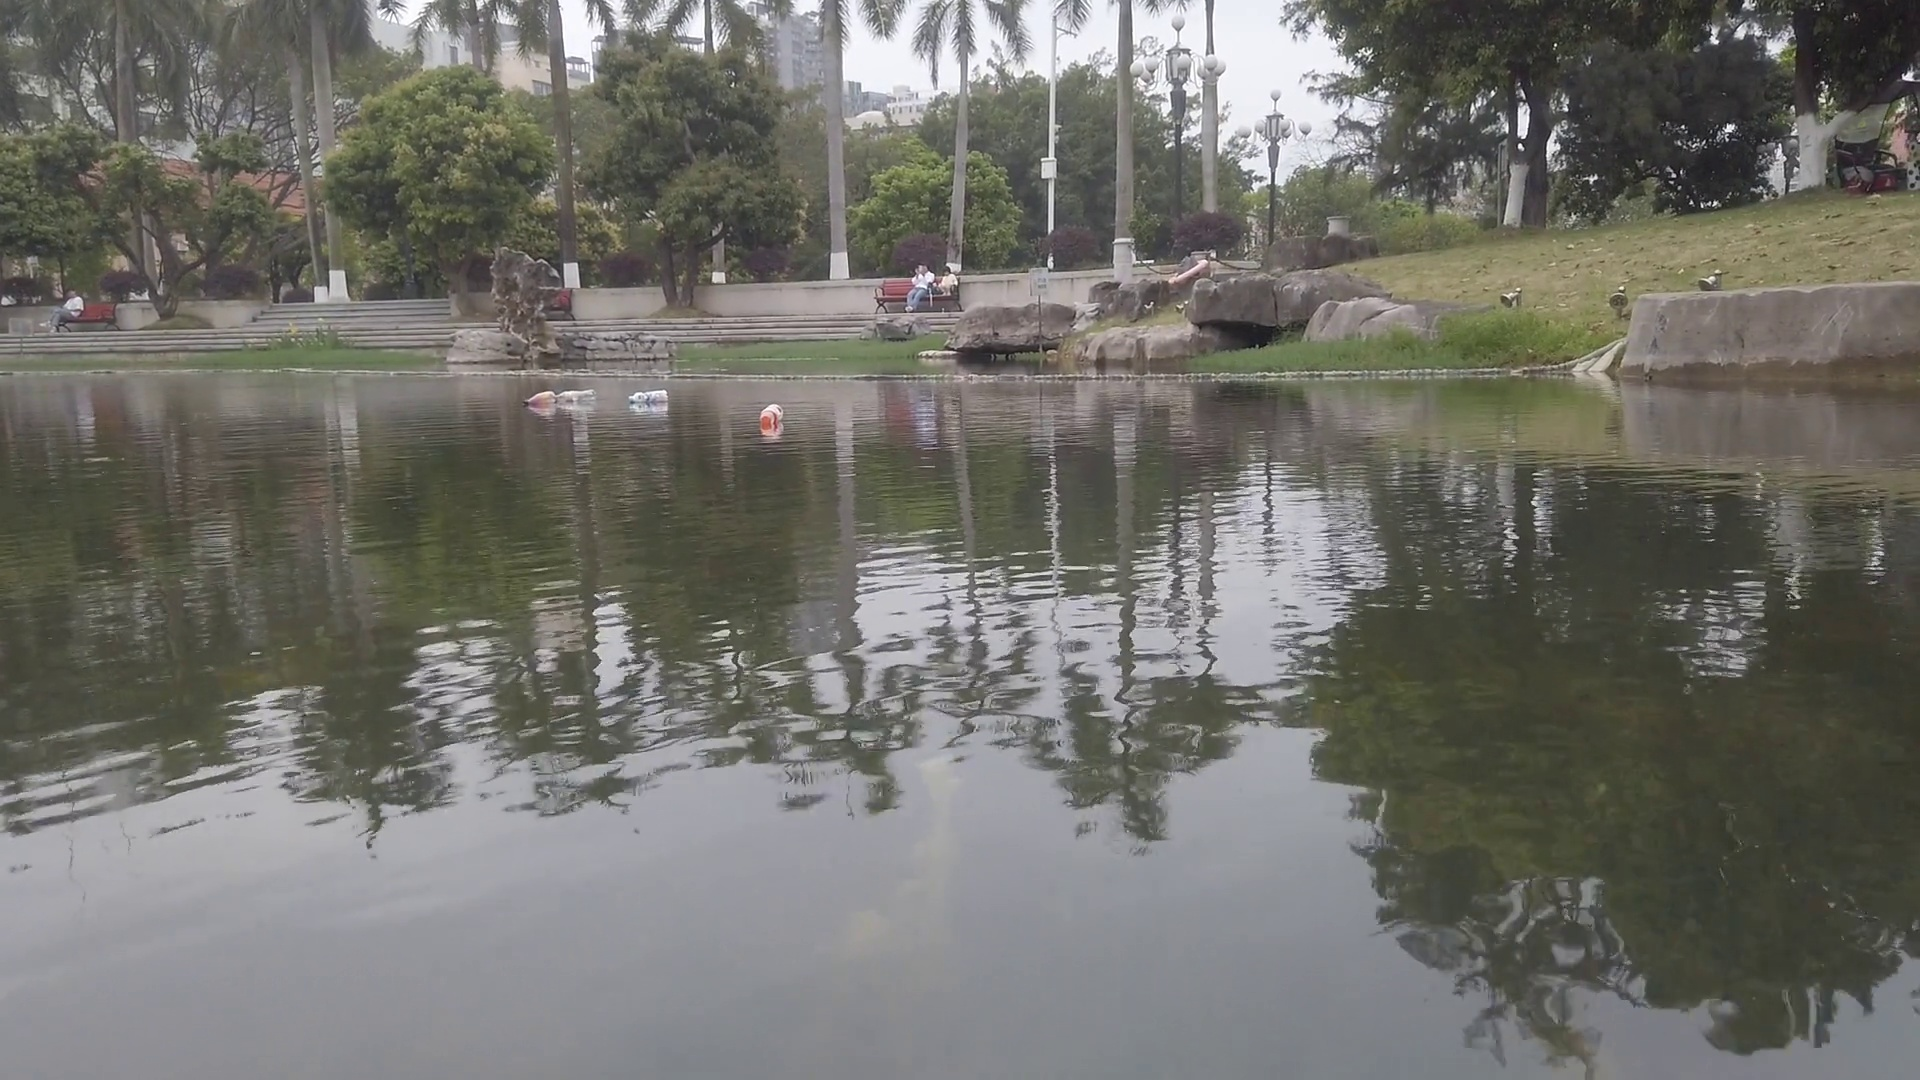bottle: (628, 389, 671, 405), (760, 404, 785, 429), (522, 390, 556, 406), (556, 390, 597, 404)
